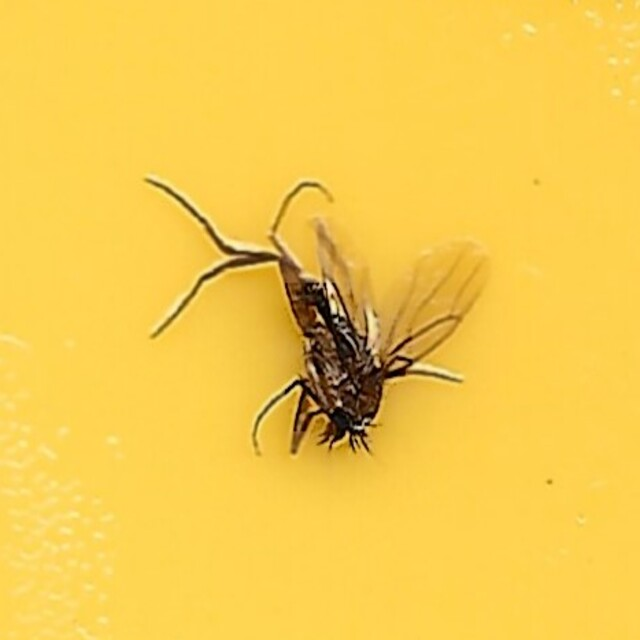Nematocera: (137, 177, 503, 463)
